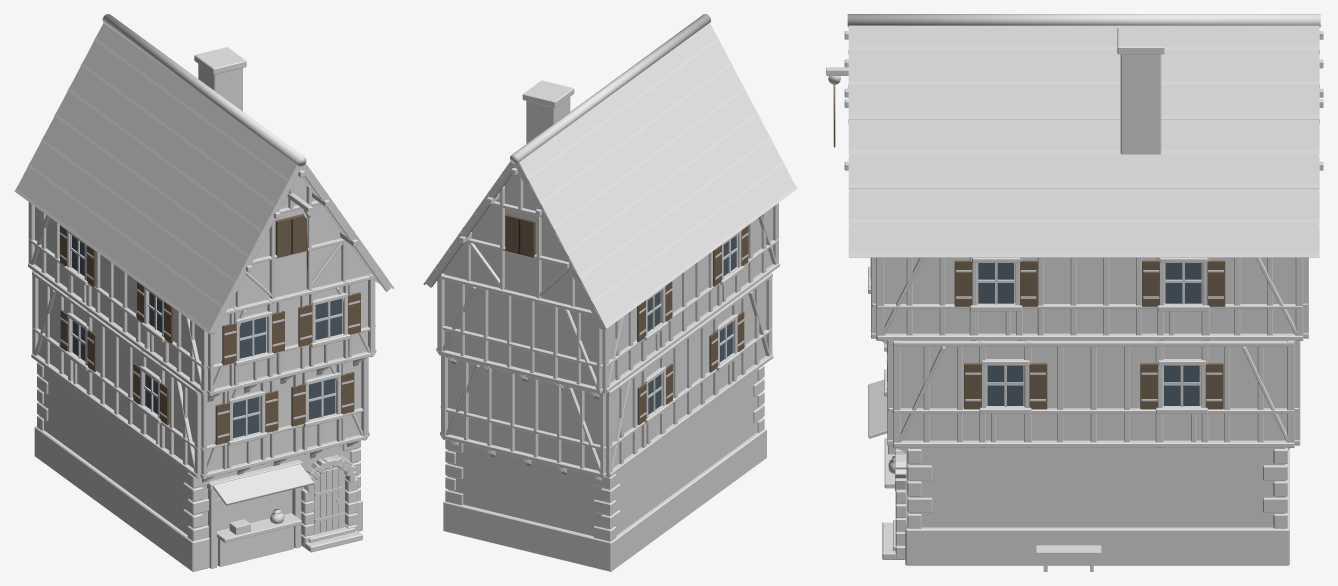
Rendered from ville_01_pignon_echoppe.fbx.
The picture shows the model from 3 angles, left to right: view 1: azimuth 30°, elevation 25°; view 2: azimuth 150°, elevation 25°; view 3: azimuth 270°, elevation 25°; orthographic projection. The views are drawn at different scales.
Parts seen in each view (by area): view 1: ville_01_pignon_echoppe_LOD0; view 2: ville_01_pignon_echoppe_LOD0; view 3: ville_01_pignon_echoppe_LOD0.
Part boxes in pixels (box(x1,y1,x2,y2)): ville_01_pignon_echoppe_LOD0: box(14, 14, 393, 571); ville_01_pignon_echoppe_LOD0: box(423, 14, 797, 571); ville_01_pignon_echoppe_LOD0: box(826, 14, 1323, 571).
Size of what is drawn, in the model's own units: 5.54 by 11.49 by 10.32.
